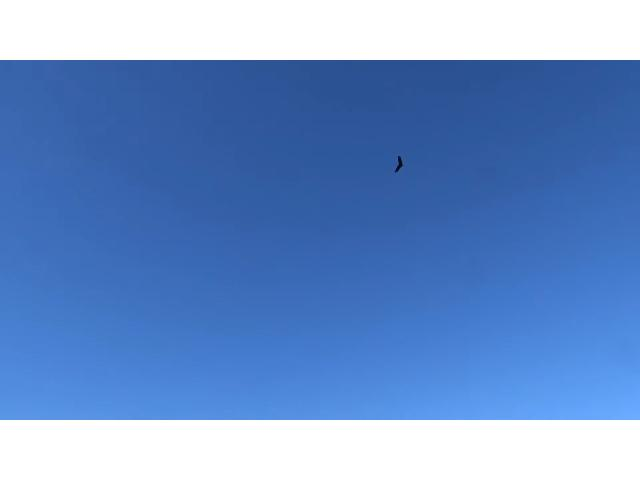Anti-Drone: (388, 151, 414, 175)
